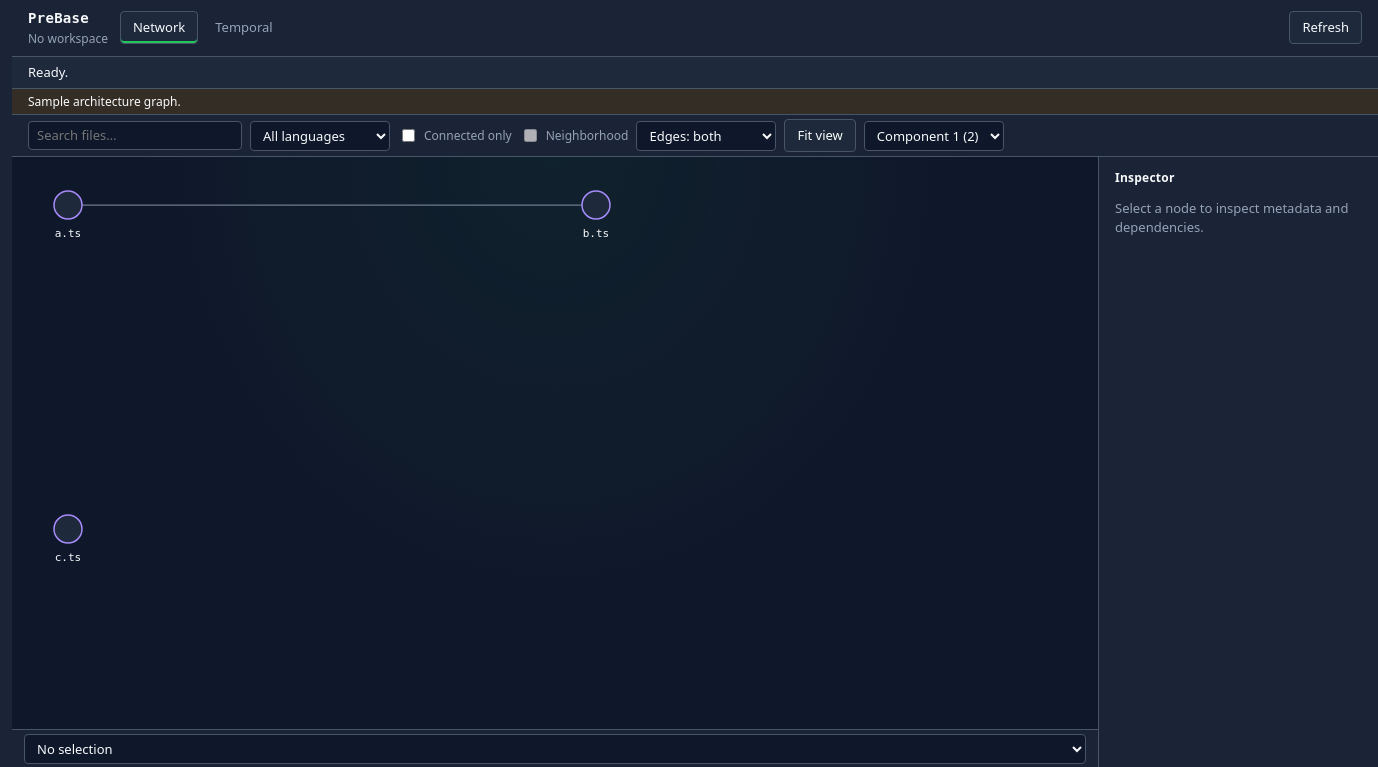
Test: App › shows no-path message when dependency path does not exist
The image size is (1378, 767).
Expected: the picture named "Network graph with 3 nodes" is shown, [12,157,1098,729]
Select "a.ts (file, src/a.ts)" in the dropdown named "Graph nodes": (555, 749) [24,734,1086,764]
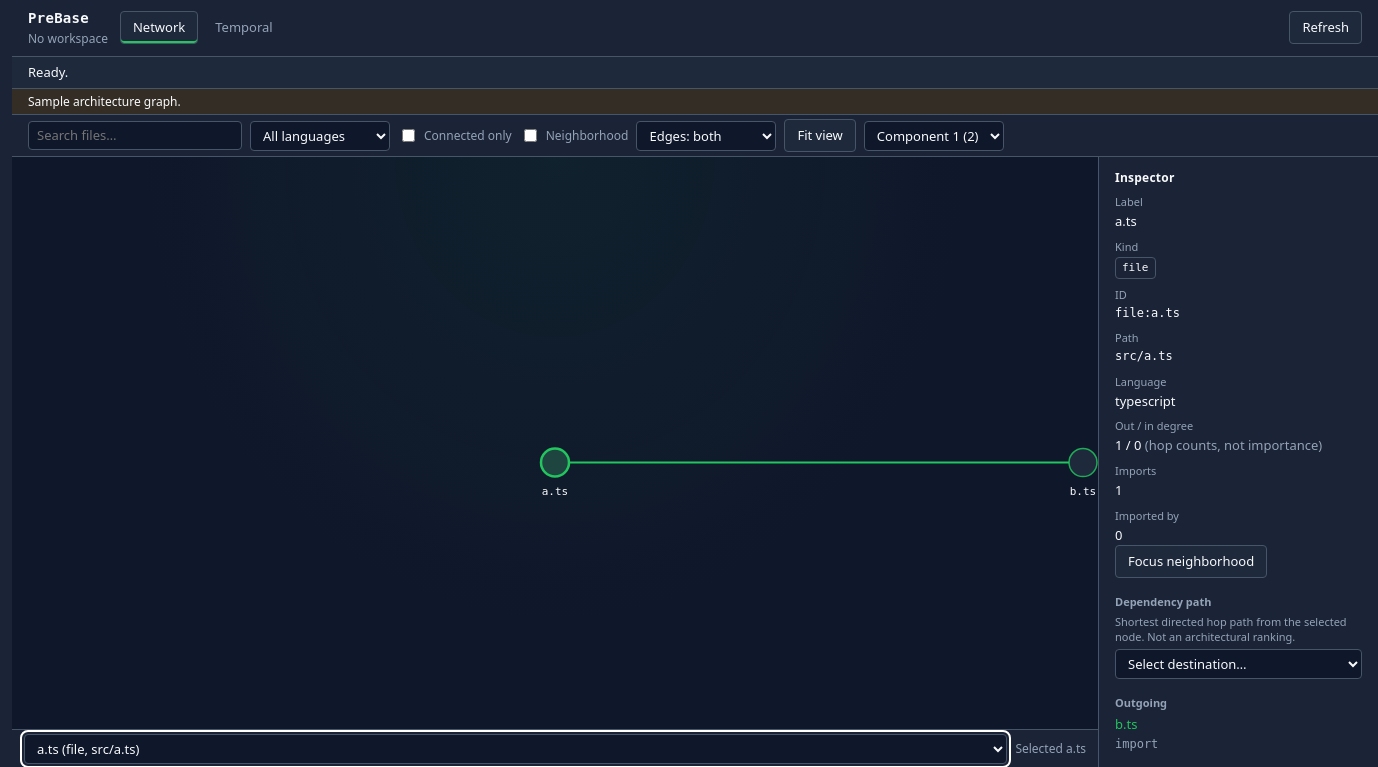
Select "c.ts (src/c.ts)" in the dropdown named "Path destination node": (1238, 664) [1115,649,1362,679]
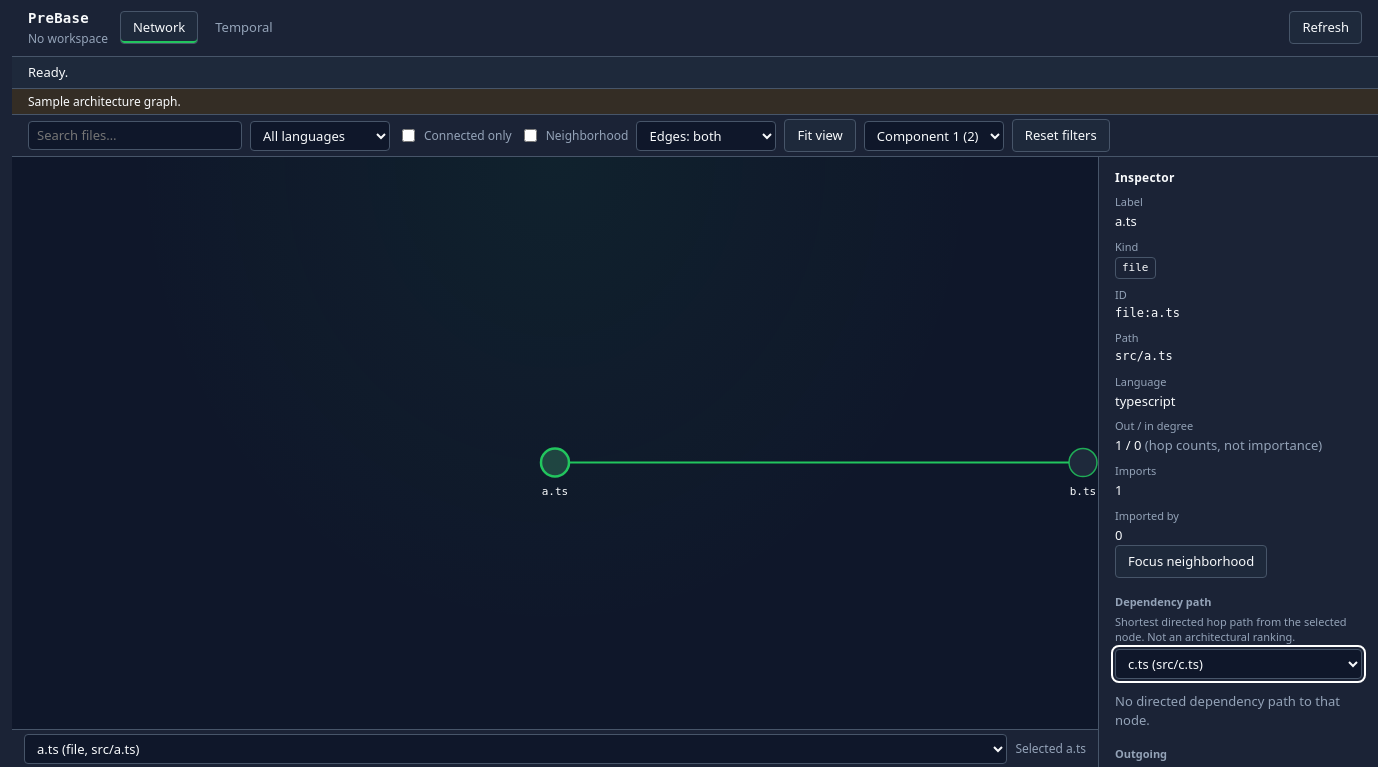
Expected: the text "No directed dependency path to that node." is shown, [1115,692,1362,730]
